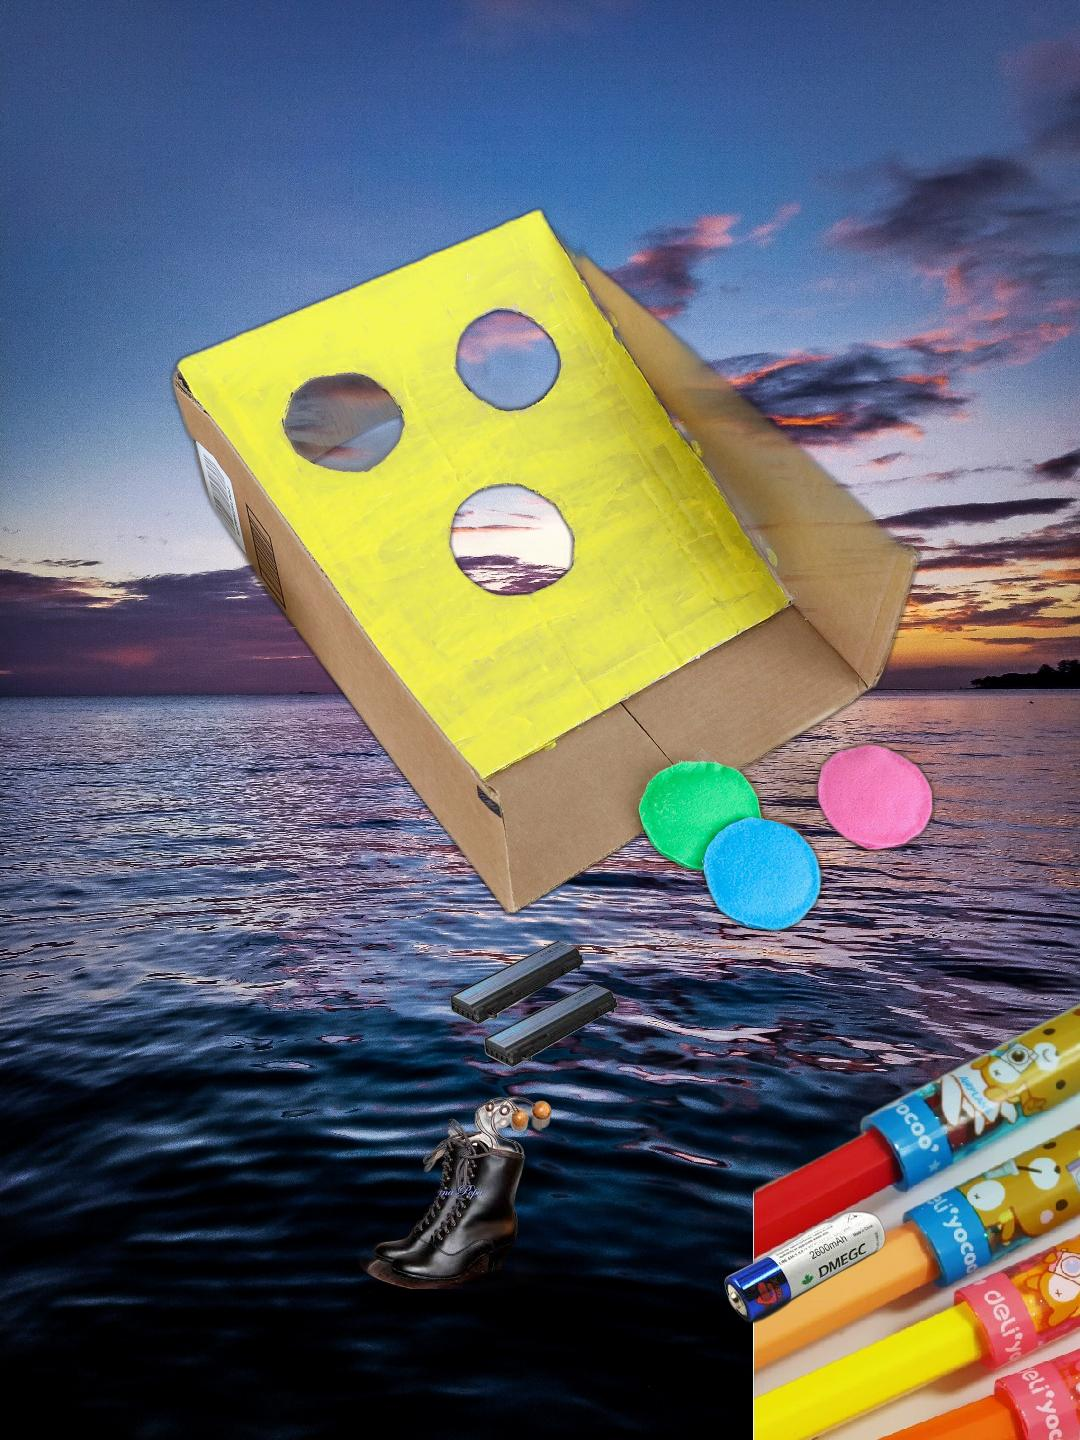battery: (446, 920, 624, 1070), (722, 1209, 888, 1325)
penholder: (753, 950, 1080, 1440)
shoes: (343, 1093, 584, 1289)
trashbox-cardboard: (164, 200, 943, 942)
